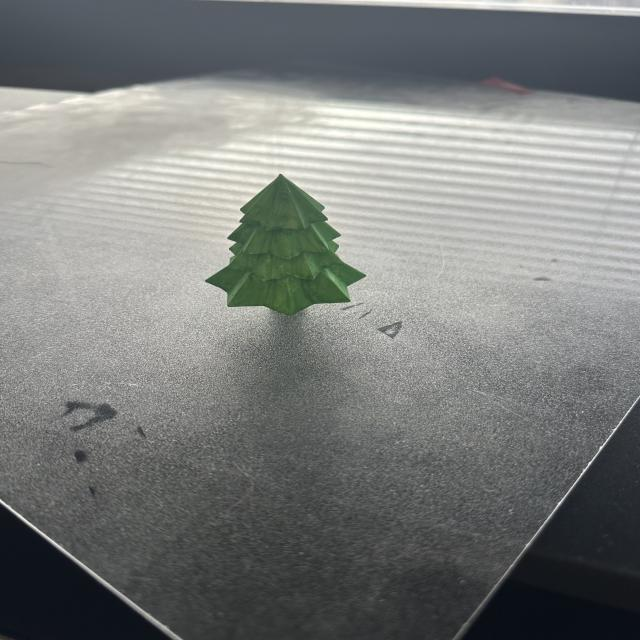tree: (204, 174, 366, 316)
